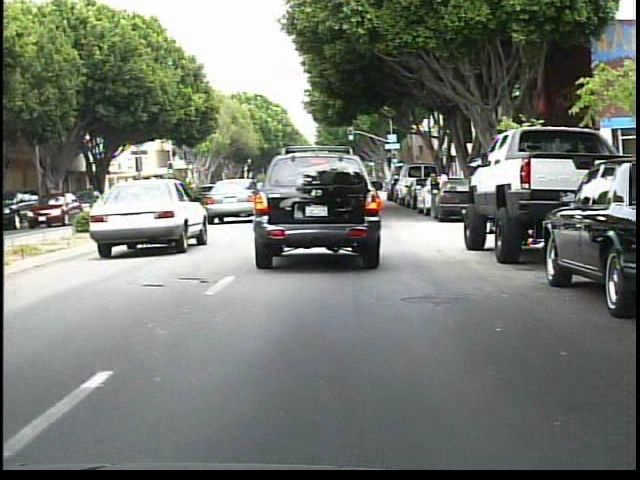person: (434, 166, 452, 213), (426, 174, 443, 222)
